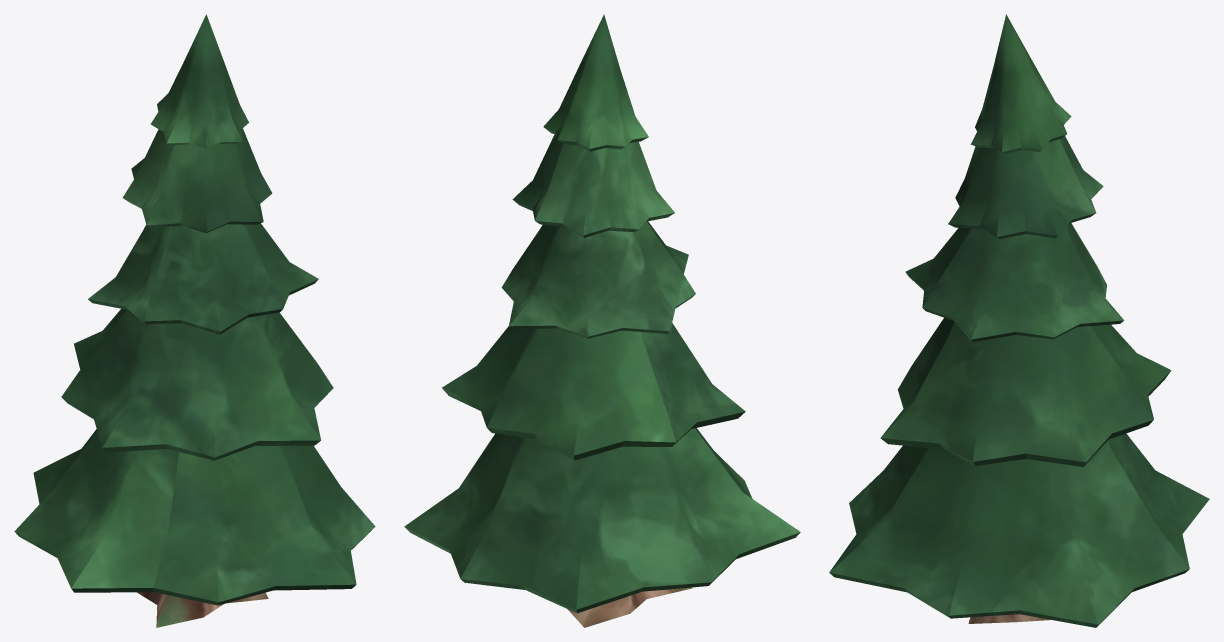
Rendered from obj_Tree_3x3.fbx.
3 renders of one model, left to right at view 1: azimuth 30°, elevation 25°; view 2: azimuth 150°, elevation 25°; view 3: azimuth 270°, elevation 25°, orthographic. The views are drawn at different scales.
Parts seen in each view (by area): view 1: pCylinder17; view 2: pCylinder17; view 3: pCylinder17.
Boxes of the visible parts, x1,y1,x2,y2 form: pCylinder17: (14,14,375,627); pCylinder17: (404,14,800,627); pCylinder17: (829,14,1209,627).
Size of the model in its own units: 232 by 396 by 232.
Materials: 1 (1 with a texture image).
